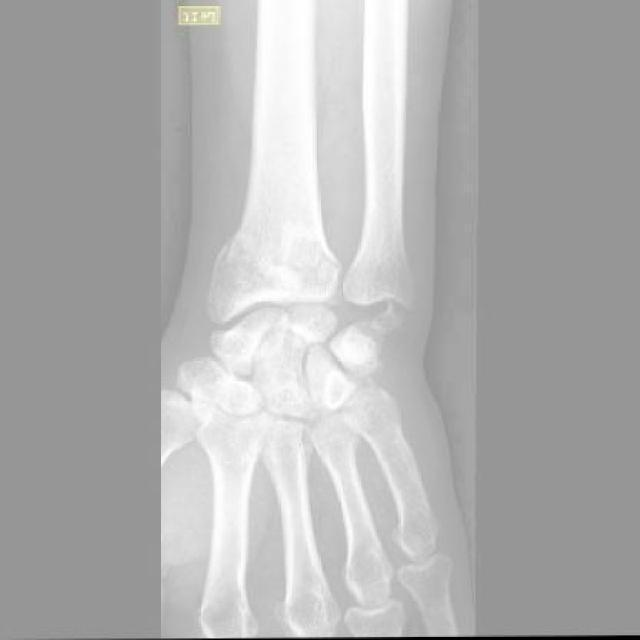Fracture: (217, 225, 340, 292), (372, 294, 417, 331)
